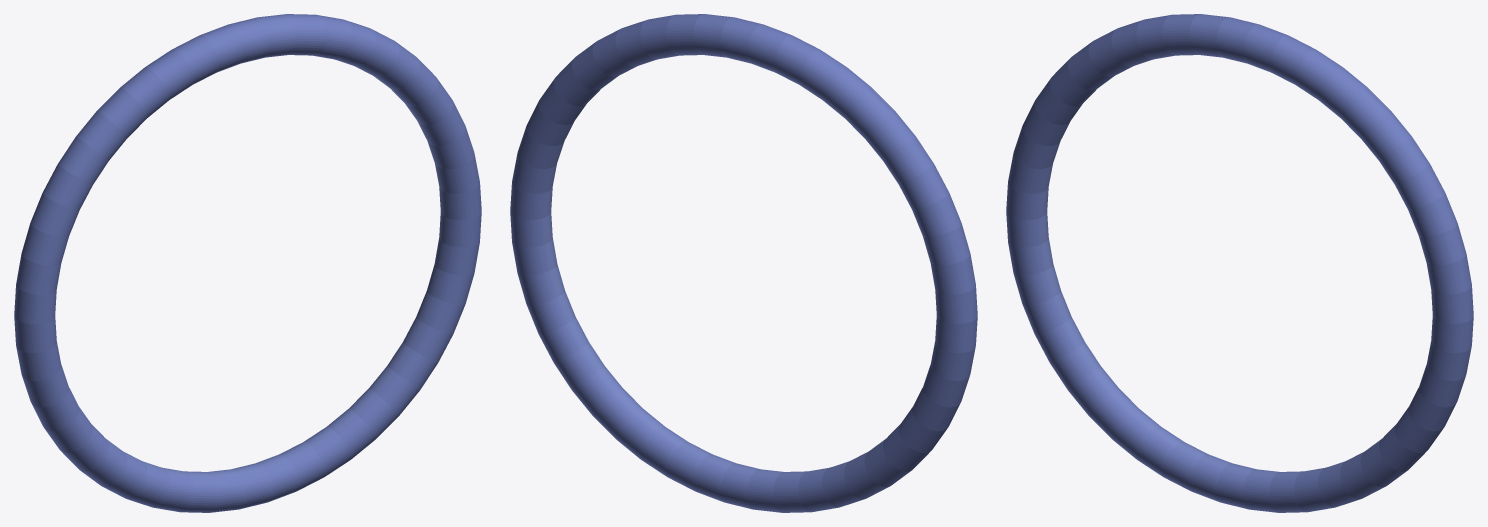
3 renders of one model, left to right at view 1: azimuth 30°, elevation 25°; view 2: azimuth 150°, elevation 25°; view 3: azimuth 330°, elevation 25°, orthographic.
Visible parts, largest first — view 1: world; view 2: world; view 3: world.
Boxes of the visible parts, <box> form: world: <box>14,14,481,512</box>; world: <box>510,14,977,512</box>; world: <box>1006,14,1473,512</box>.
Size of the model in its own units: 26 by 25.95 by 2.
